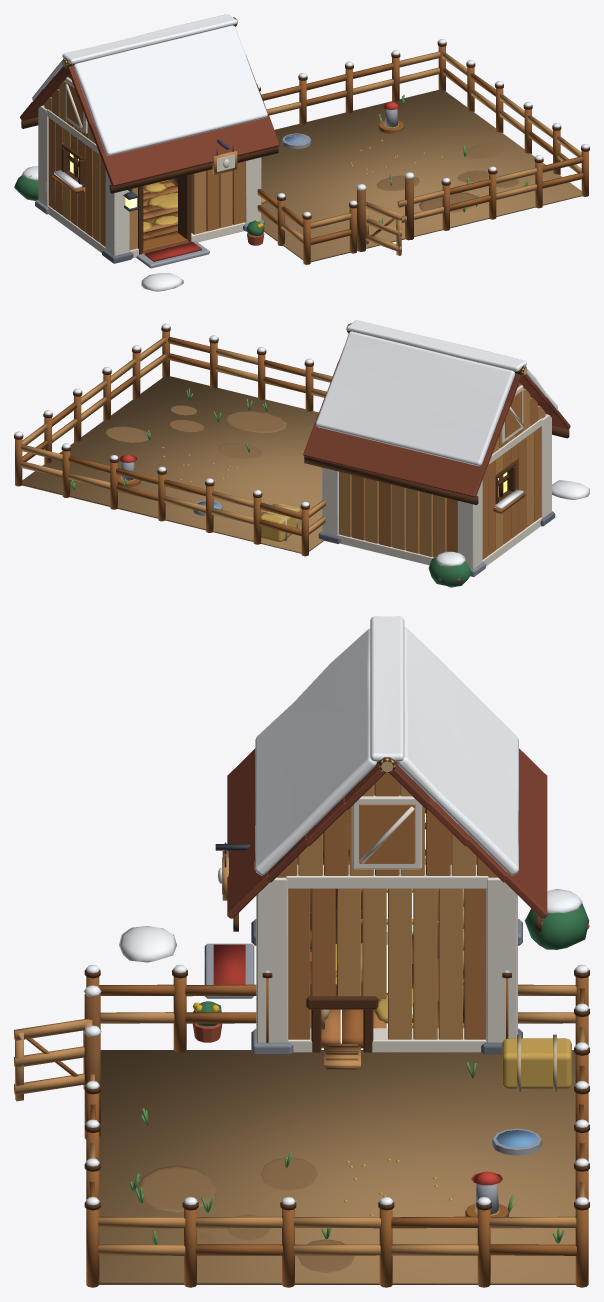
The model's file is coop.glb.
3 views of the same model, one above another, from view 1: azimuth 30°, elevation 25°; view 2: azimuth 150°, elevation 25°; view 3: azimuth 270°, elevation 25° (orthographic). The views are drawn at different scales.
Visible parts, largest first — view 1: floor, roof, exterior, walls, walls_low, interior; view 2: roof, floor, walls, exterior, walls_low; view 3: floor, roof, exterior, walls, walls_low, interior.
Boxes of the visible parts, box(x1,y1,x2,y2) form: floor: box(136, 90, 582, 268); roof: box(20, 14, 279, 193); exterior: box(14, 39, 589, 291); walls: box(35, 105, 264, 263); walls_low: box(38, 181, 261, 255); interior: box(143, 177, 177, 231); roof: box(303, 320, 570, 504); floor: box(22, 376, 323, 553); walls: box(318, 414, 555, 577); exterior: box(14, 323, 589, 587); walls_low: box(322, 489, 551, 568); floor: box(99, 934, 575, 1284); roof: box(227, 616, 547, 931); exterior: box(14, 889, 589, 1287); walls: box(215, 784, 522, 1054); walls_low: box(256, 998, 517, 1042); interior: box(310, 855, 464, 1026).
Bounding box in the file's own units: 8.68 × 3.51 × 5.77.
